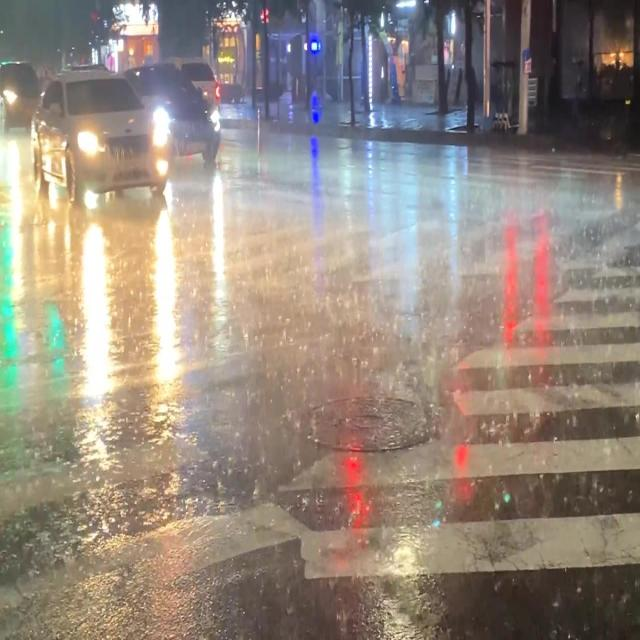Car: (31, 68, 164, 215), (141, 59, 222, 163), (2, 63, 39, 130)
